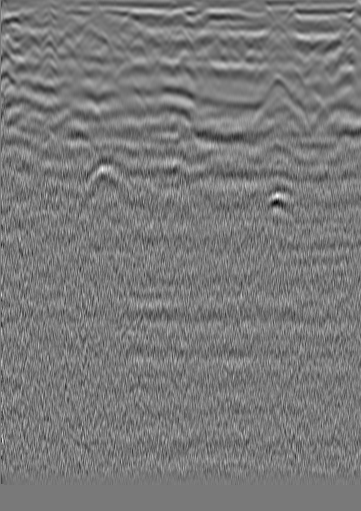가스: (267, 179, 295, 214)
상수: (0, 27, 20, 47)
오수: (305, 32, 325, 52)
우수: (173, 24, 193, 44)
